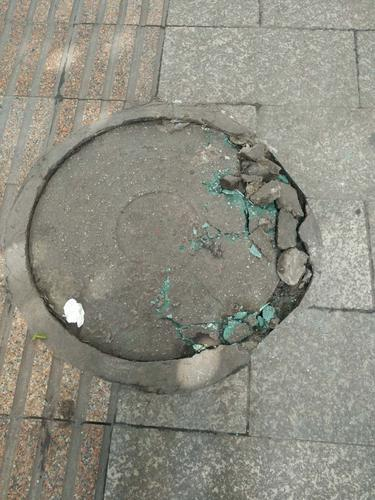broke: (6, 101, 330, 395)
